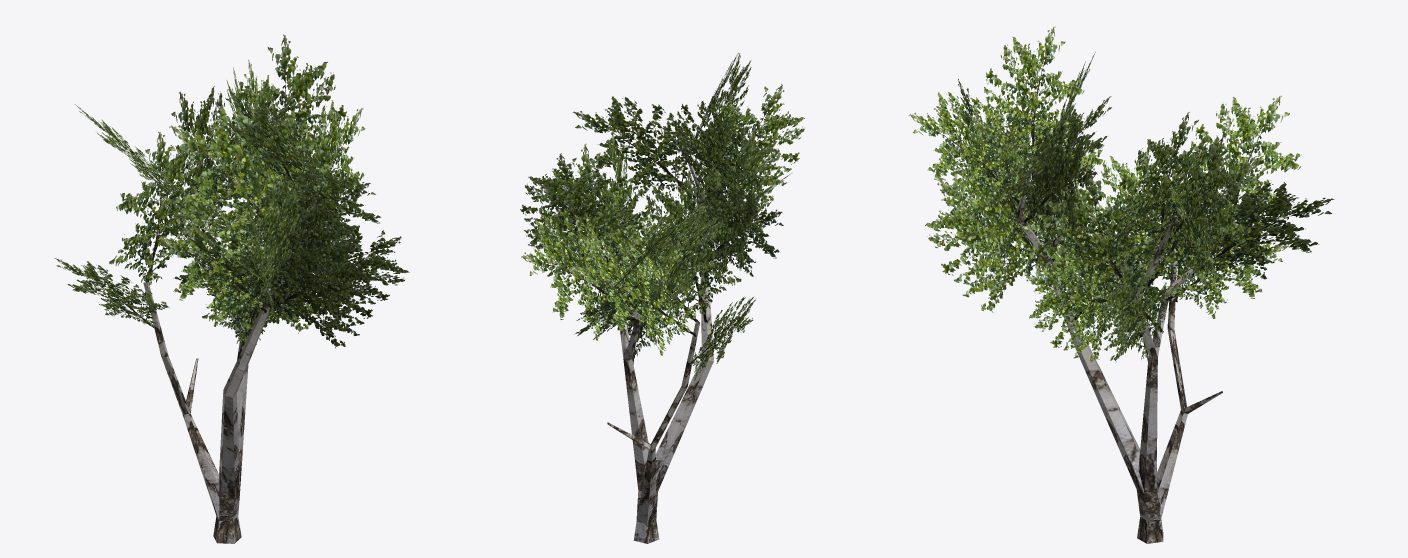
Rendered from tree05.fbx.
The picture shows the model from 3 angles, left to right: view 1: azimuth 30°, elevation 25°; view 2: azimuth 150°, elevation 25°; view 3: azimuth 270°, elevation 25°; orthographic projection. The views are drawn at different scales.
Parts seen in each view (by area): view 1: treee05; view 2: treee05; view 3: treee05.
Part boxes in pixels (left/top/right/bottom): treee05: left=54, top=34, right=409, bottom=543; treee05: left=520, top=52, right=804, bottom=543; treee05: left=908, top=26, right=1334, bottom=543.
Size of the model in its own units: 5132 by 8145 by 7489.
